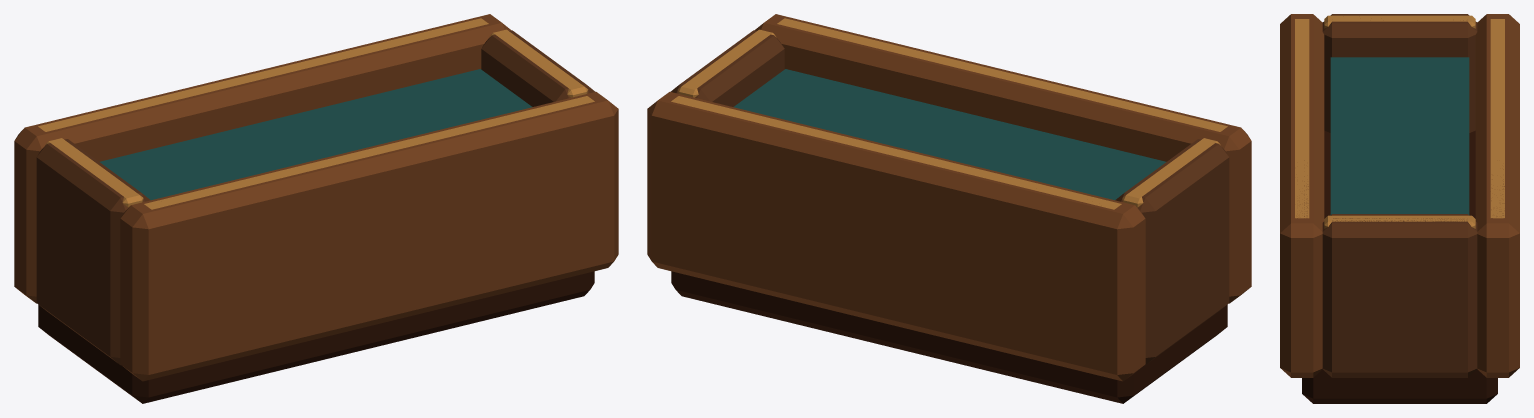
File: water_trough.glb
3 views of the same model, side by side, from view 1: azimuth 30°, elevation 25°; view 2: azimuth 150°, elevation 25°; view 3: azimuth 270°, elevation 25° (orthographic). The views are drawn at different scales.
Visible parts, largest first — view 1: water_trough; view 2: water_trough; view 3: water_trough.
Boxes of the visible parts, x1,y1,x2,y2 form: water_trough: (14, 14, 618, 403); water_trough: (647, 14, 1251, 403); water_trough: (1280, 14, 1519, 403).
Size of the model in its own units: 1.64 by 0.65 by 0.76.
1 material, 1 textured.
